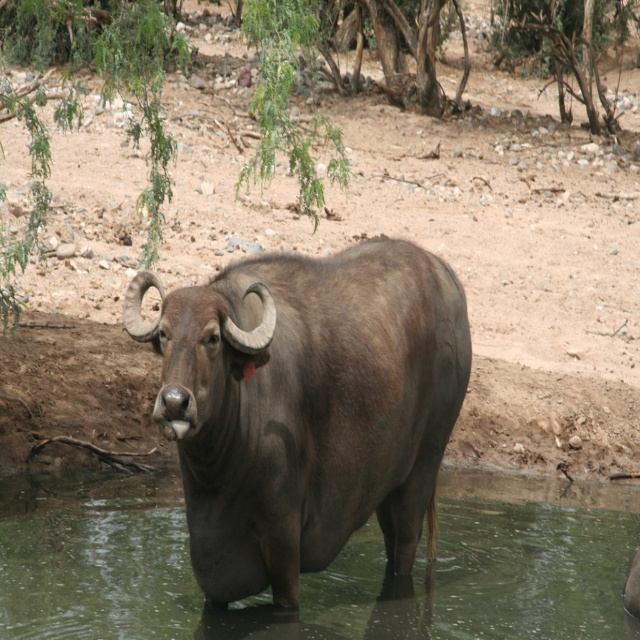Cattle: (123, 234, 472, 609)
